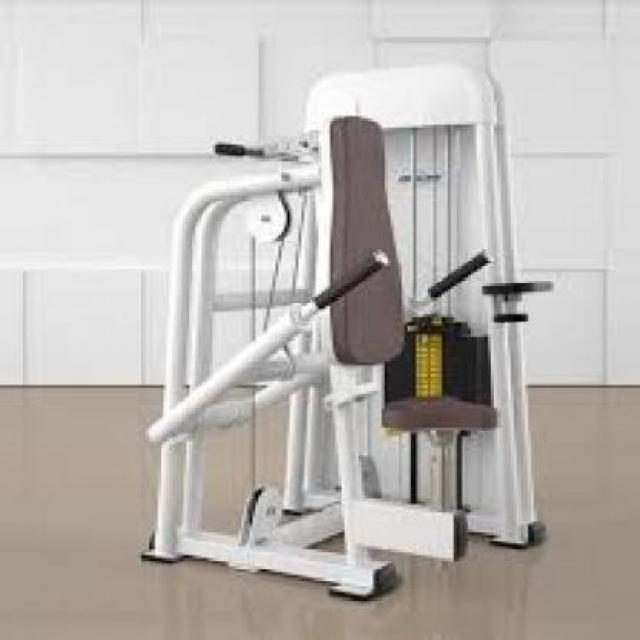seated dip machine: (146, 63, 559, 603)
